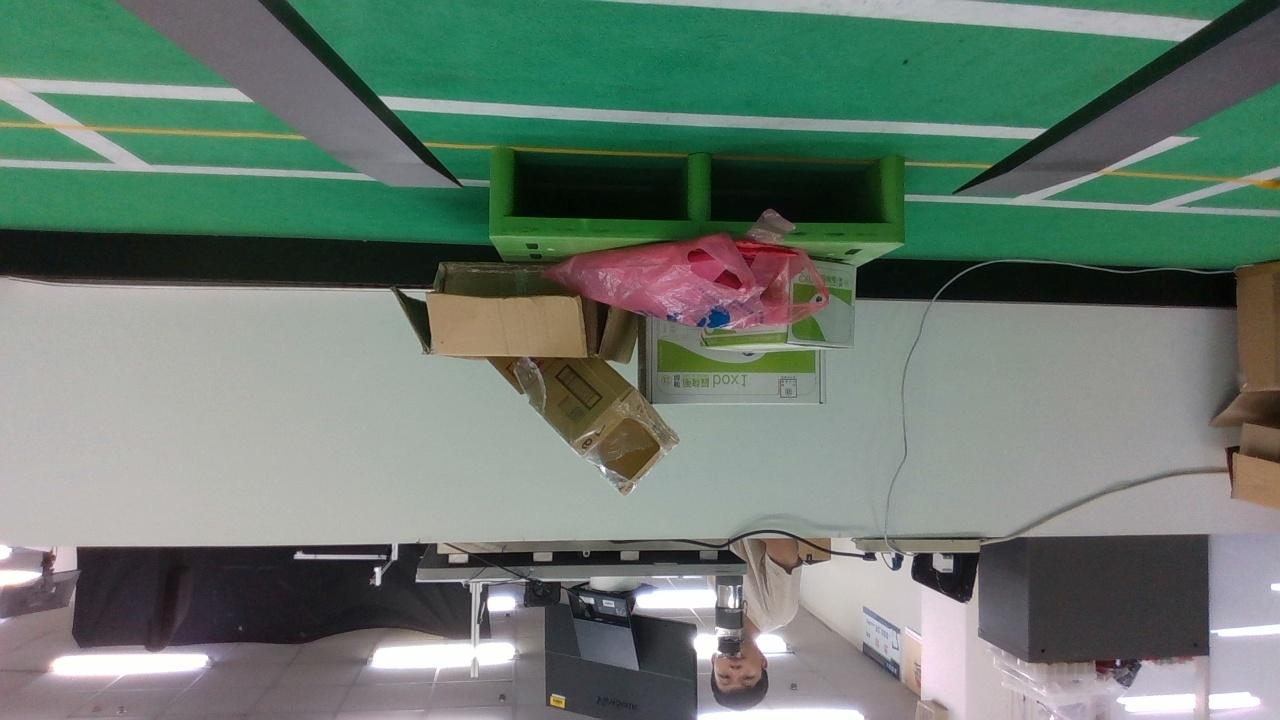Pallet: (490, 148, 904, 243)
